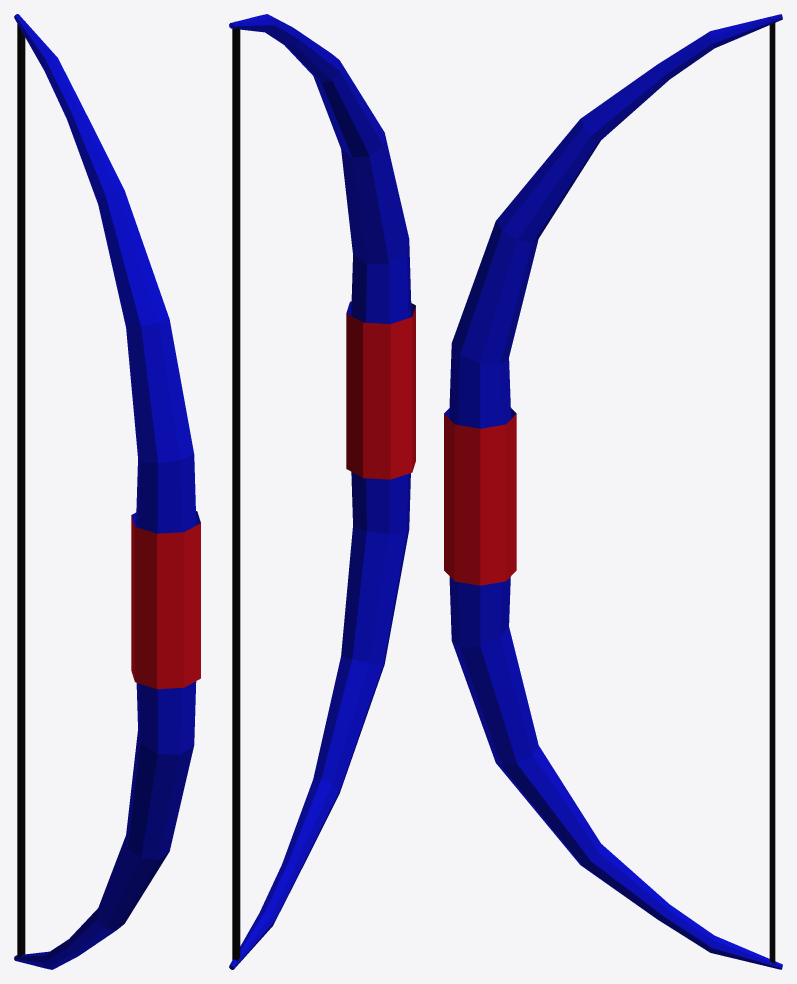
The model's file is Bow.fbx.
3 renders of one model, left to right at view 1: azimuth 30°, elevation 25°; view 2: azimuth 150°, elevation 25°; view 3: azimuth 270°, elevation 25°, orthographic.
Parts seen in each view (by area): view 1: Bow; view 2: Bow; view 3: Bow.
Part boxes in pixels (box(x1,y1,x2,y2)): Bow: box(14, 14, 200, 969); Bow: box(229, 14, 415, 969); Bow: box(444, 14, 782, 969).
Bounding box in the file's own units: 108 × 1560 × 502.
